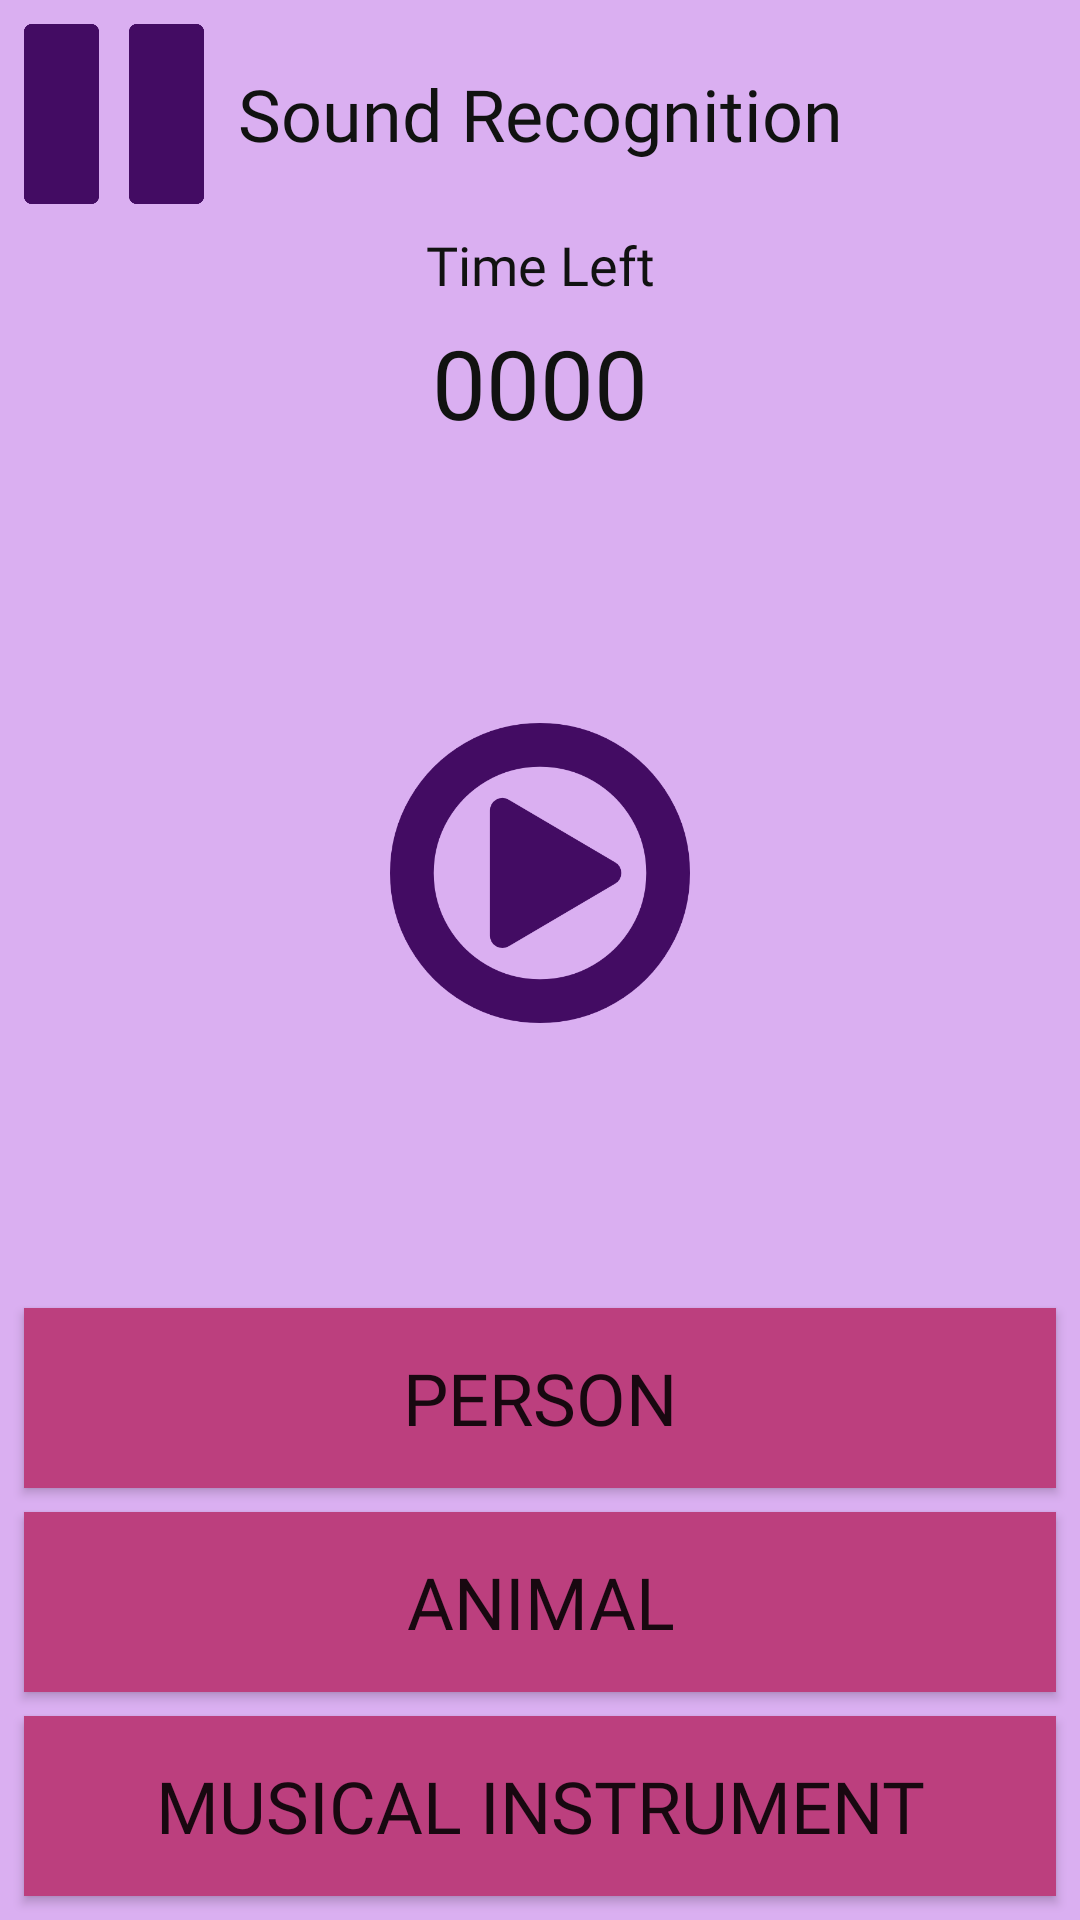

Where icons sit on this 1080w x 1920h app screen, as [x1=x1, y1=y1, x2=x2, y2=y2]:
pause: [x1=24, y1=24, x2=204, y2=204]
play: [x1=390, y1=723, x2=690, y2=1023]
